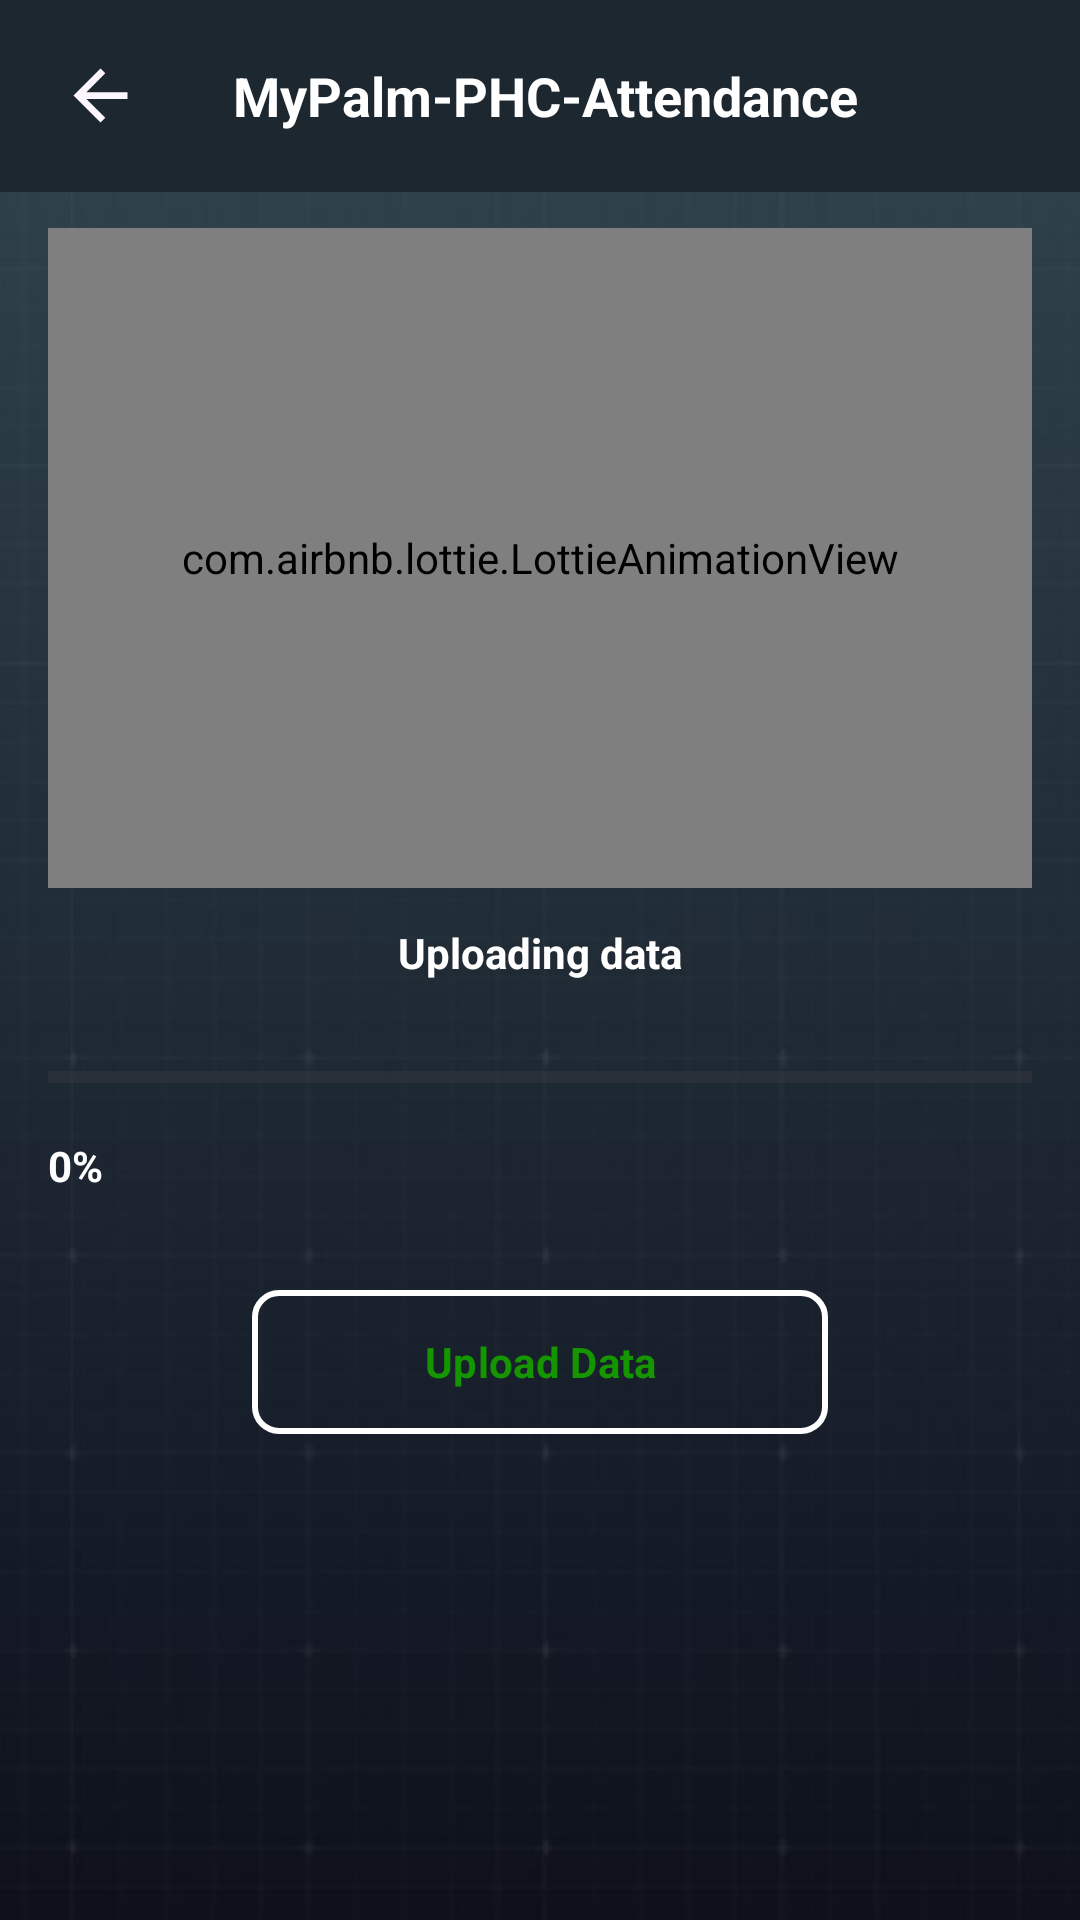

Icon bounding boxes for this 1080 x 1920 phone screenshot, format [left=x1, top=y1, right=x2, bottom=y2]:
arrow back: [left=73, top=68, right=128, bottom=123]
